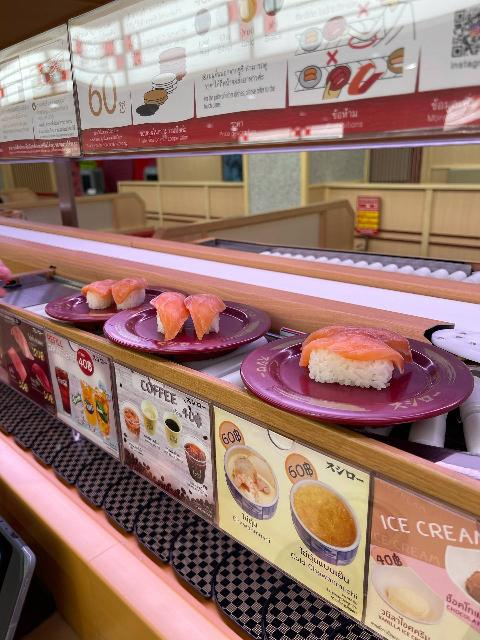janred: (241, 332, 478, 414), (110, 309, 268, 358), (42, 276, 156, 320)
